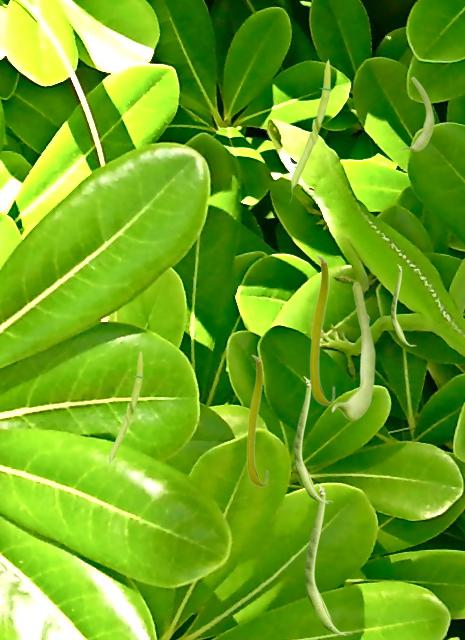french_bean: (305, 483, 351, 634), (289, 57, 331, 202), (331, 281, 374, 419), (294, 376, 332, 502), (107, 349, 143, 475), (309, 254, 334, 405), (246, 354, 267, 486), (399, 76, 433, 150), (391, 264, 415, 345)
